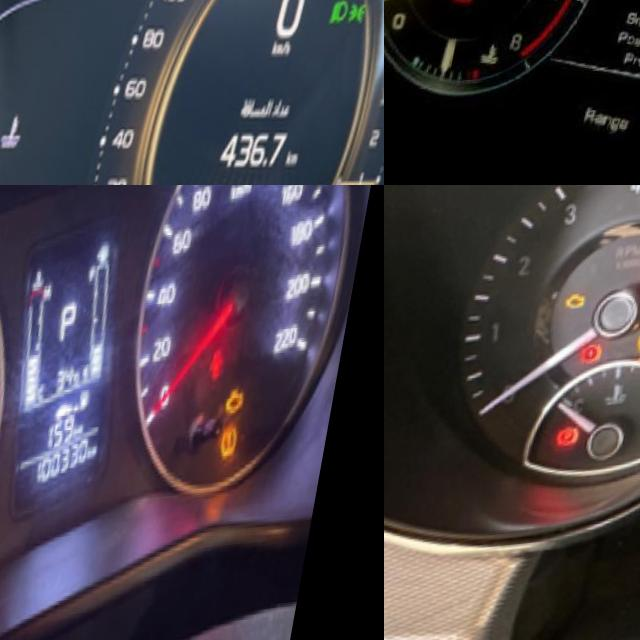Engine cooling system: (482, 50, 512, 82)
Low beam: (333, 2, 361, 40)
